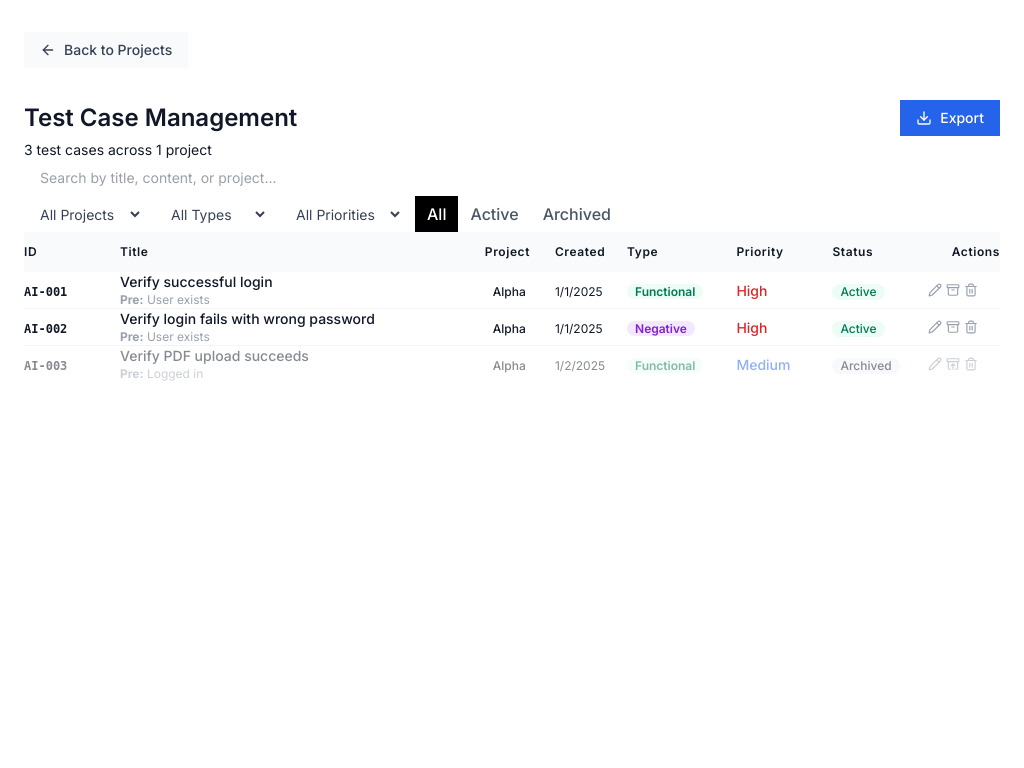
Test: TestCaseManagementView – edit modal › opens Edit modal when edit button is clicked
The width and height of the screenshot is (1024, 768).
Expected: the text "Verify successful login" is shown, [120,273,273,290]
Click the button titled "edit" in the row of "AI-001" at {"x": 935, "y": 290}, box [928,283,942,297]
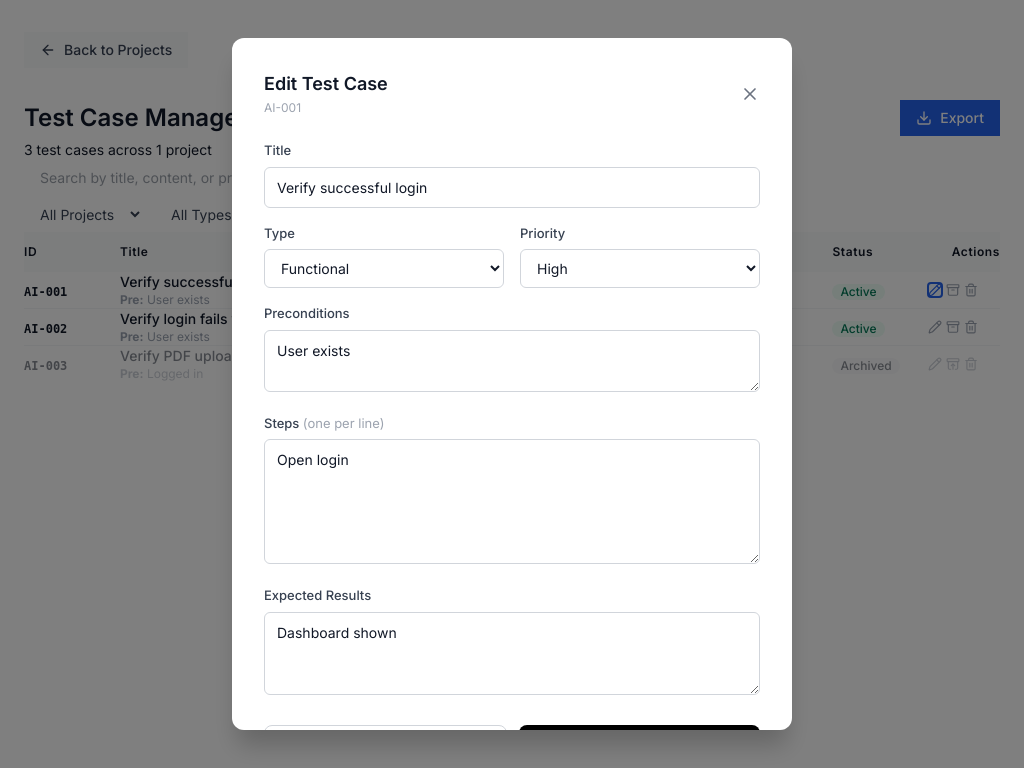
Expected: the heading "Edit Test Case" is shown, [264,70,388,97]
